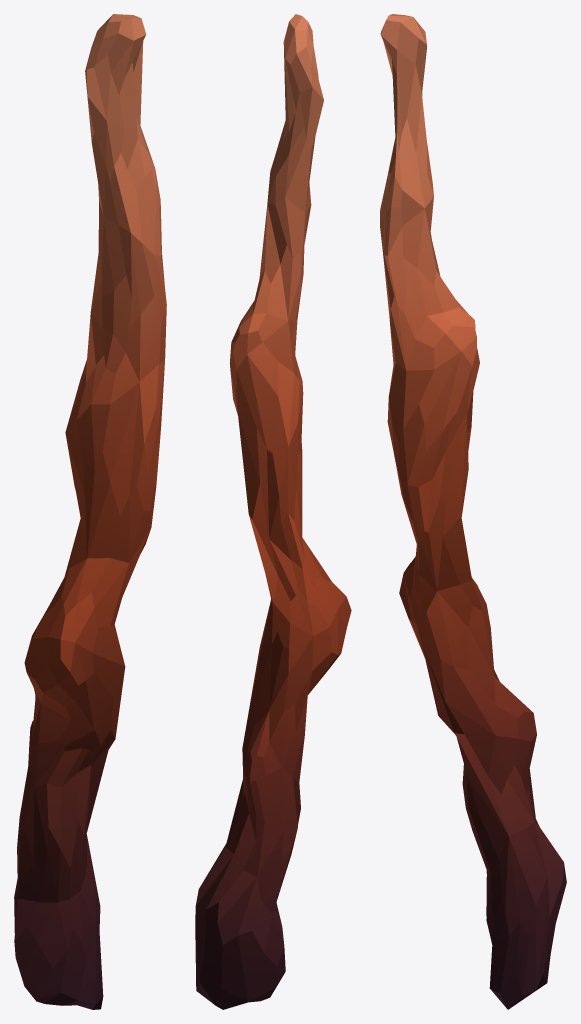
Rendered from 03_branch_01.fbx.
3 renders of one model, left to right at view 1: azimuth 30°, elevation 25°; view 2: azimuth 150°, elevation 25°; view 3: azimuth 270°, elevation 25°, orthographic. The views are drawn at different scales.
Visible parts, largest first — view 1: 03 branch_01; view 2: 03 branch_01; view 3: 03 branch_01.
Boxes of the visible parts, left/top/right/bottom form: 03 branch_01: left=14, top=14, right=166, bottom=1009; 03 branch_01: left=195, top=14, right=351, bottom=1009; 03 branch_01: left=380, top=14, right=566, bottom=1009.
Bounding box in the file's own units: 30.95 × 263 × 45.44.
